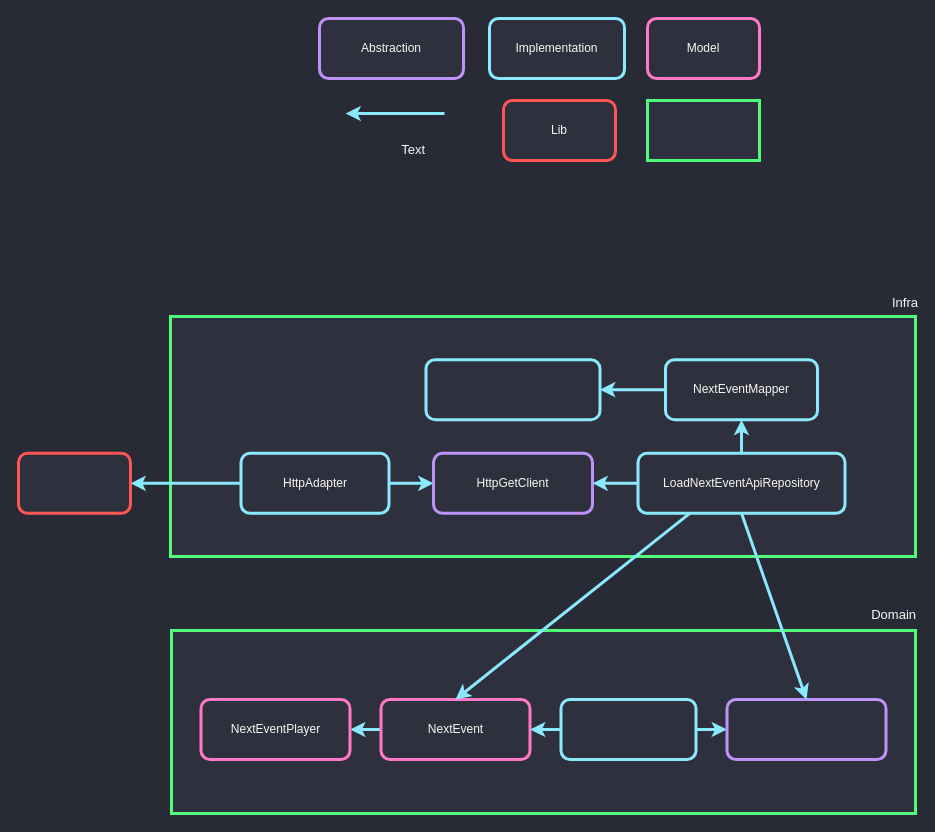
Image size: 935x832. Some labels were removed from this diagram. The shapes that lost their labels are listed below. From the top down, each one's centre as x and y in pixels, then its label:
At point (703, 130): "Layer".
At point (512, 389): "NextEventPlayerMapper".
At point (74, 482): "Http".
At point (628, 729): "NextEventLoader".
At point (806, 729): "LoadNextEventRepository".
